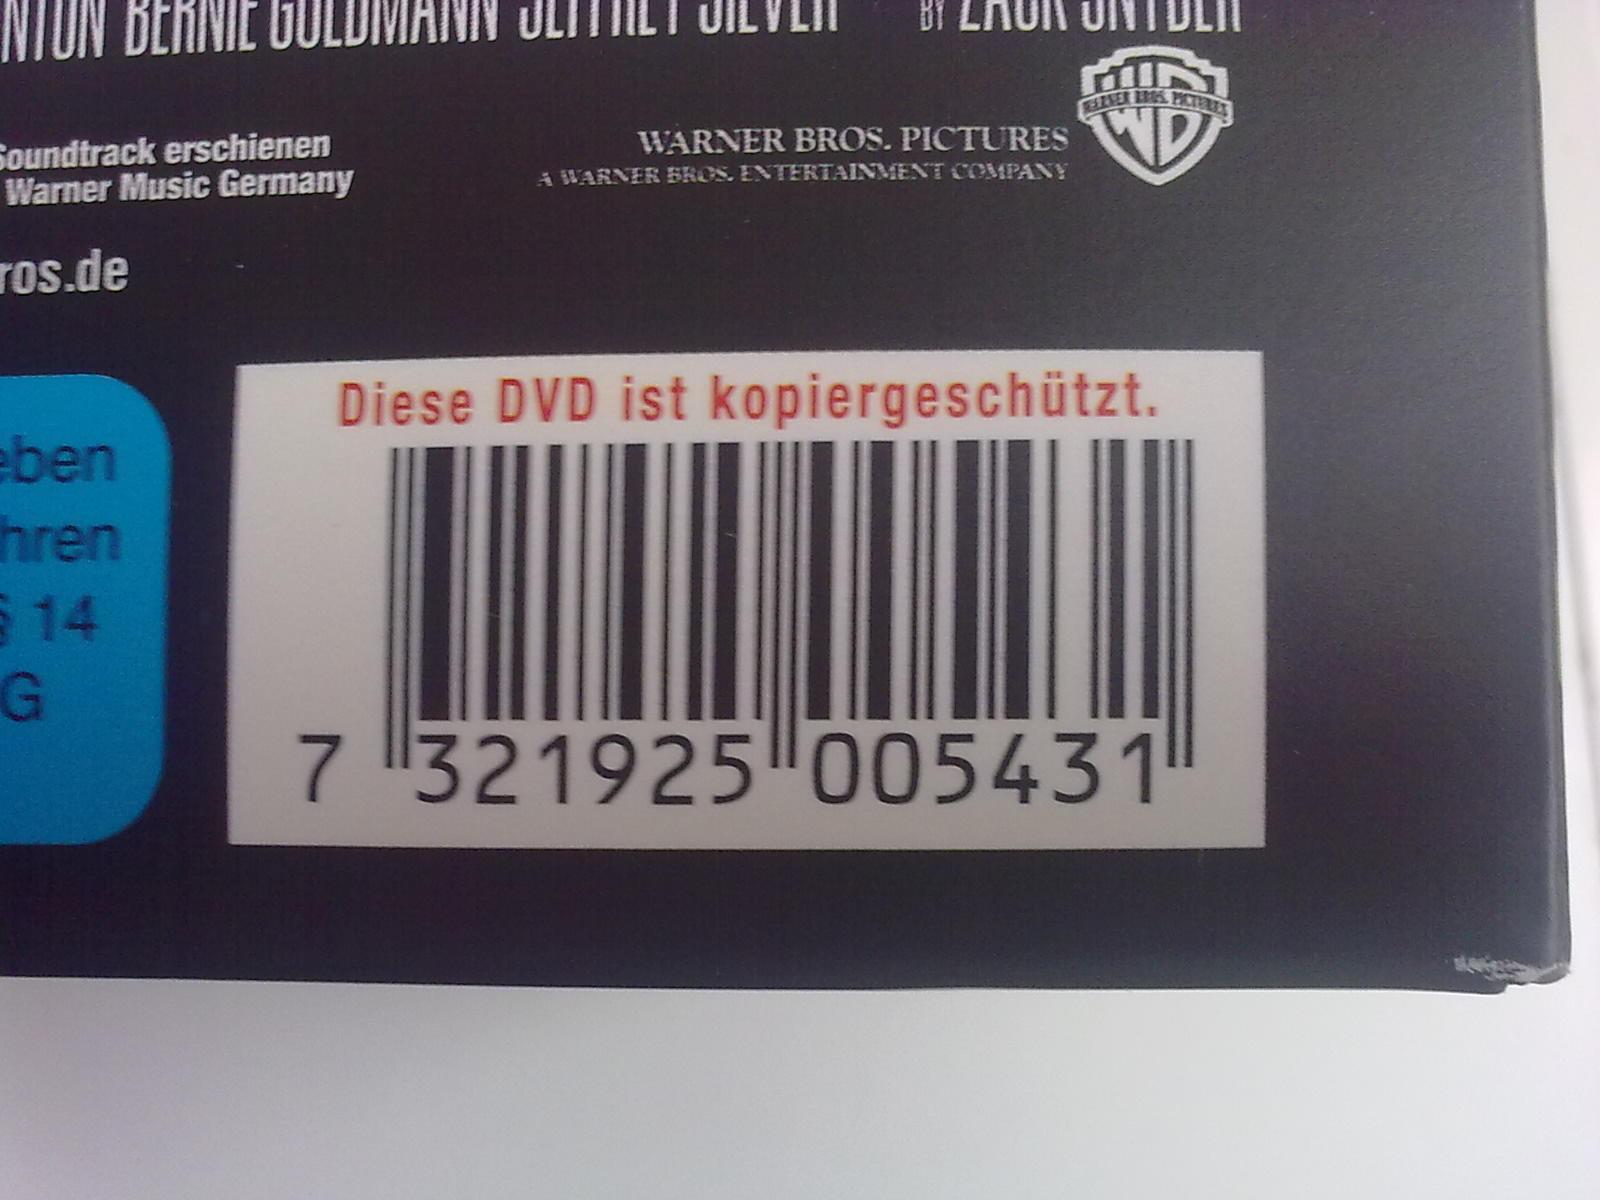barcode: (234, 350, 1266, 846)
